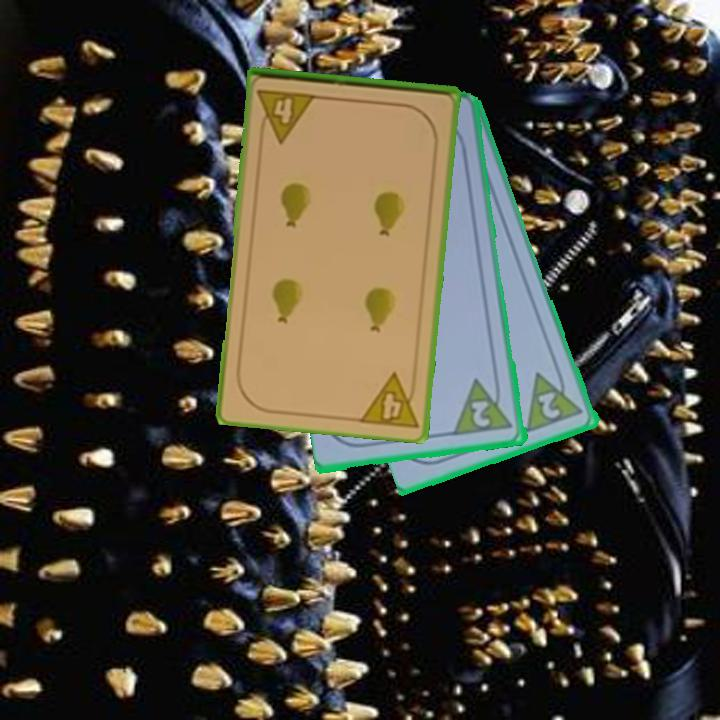2p: (523, 363, 587, 436), (452, 374, 516, 439)
4p: (356, 369, 421, 430), (254, 86, 319, 145)
